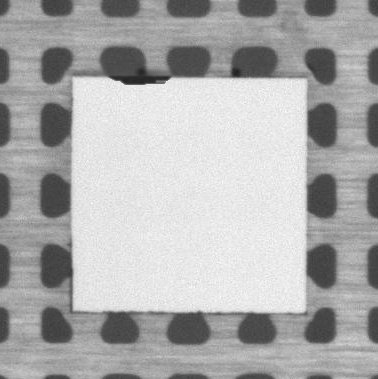DIE_BROKEN: (99, 72, 173, 87)
